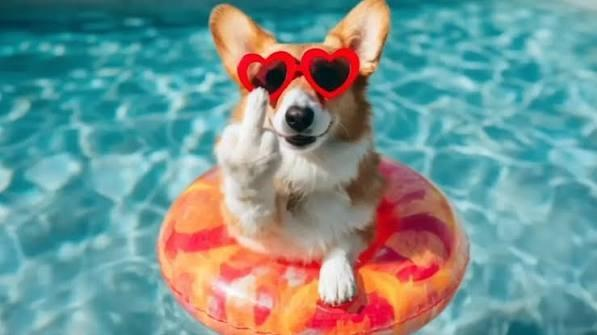adult_dog: (210, 0, 396, 306)
